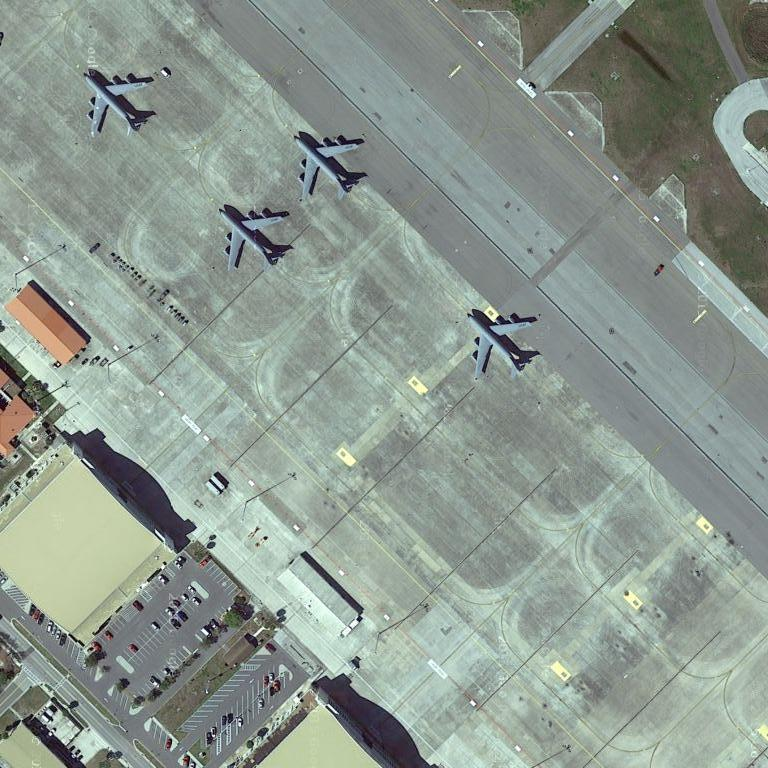KC-135: (288, 127, 368, 206), (80, 67, 161, 142), (215, 201, 294, 276), (466, 304, 536, 381)
